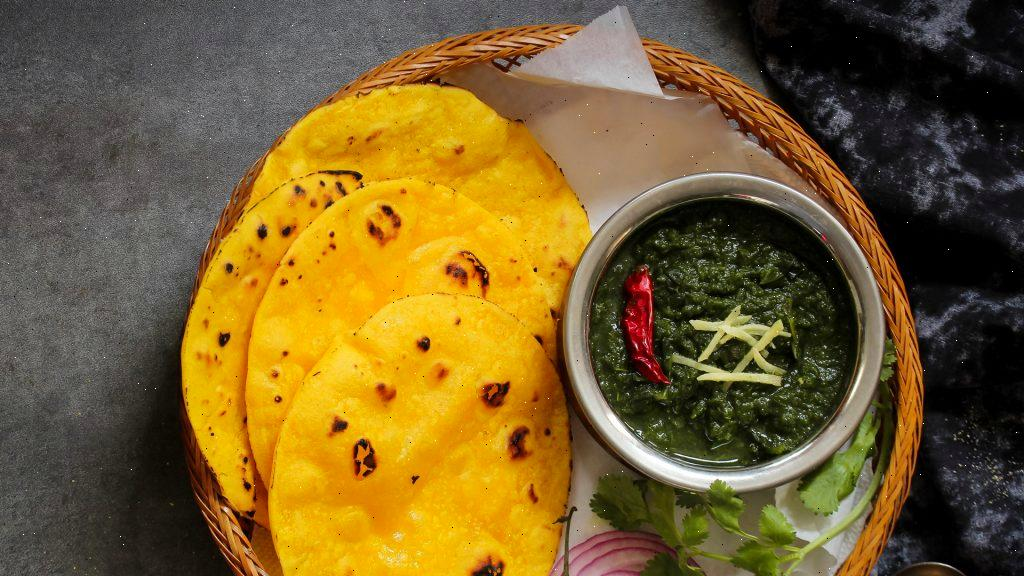saag: (586, 198, 865, 468)
